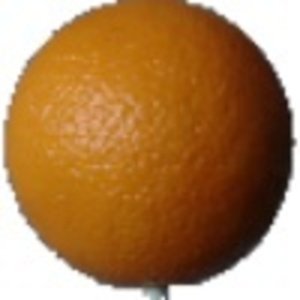laranja: (3, 2, 296, 293)
